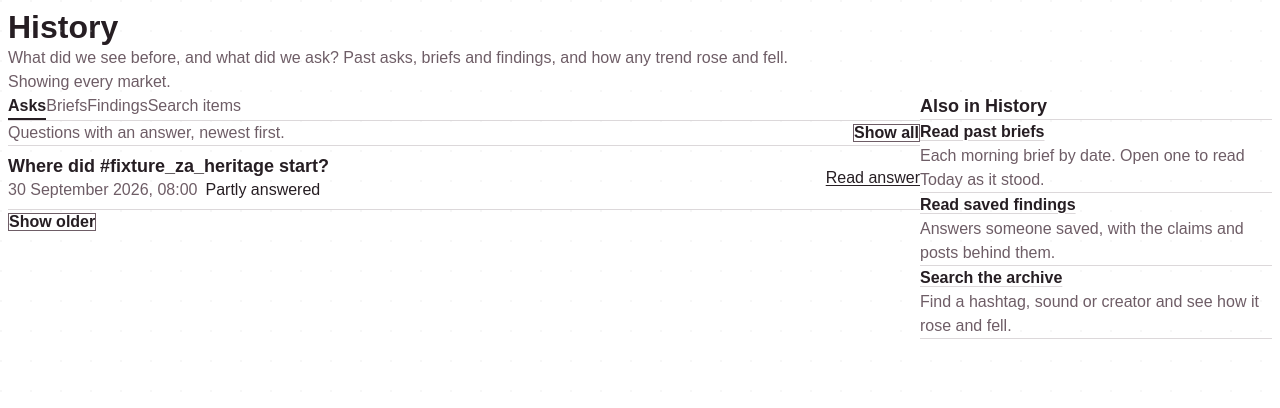
a finding keeps its evidence flags and shows each as words
What coordinates should you click on to do the following:
click the tab "Findings"
I would click on:
 (117, 107)
Its box is [87,94,148,120].
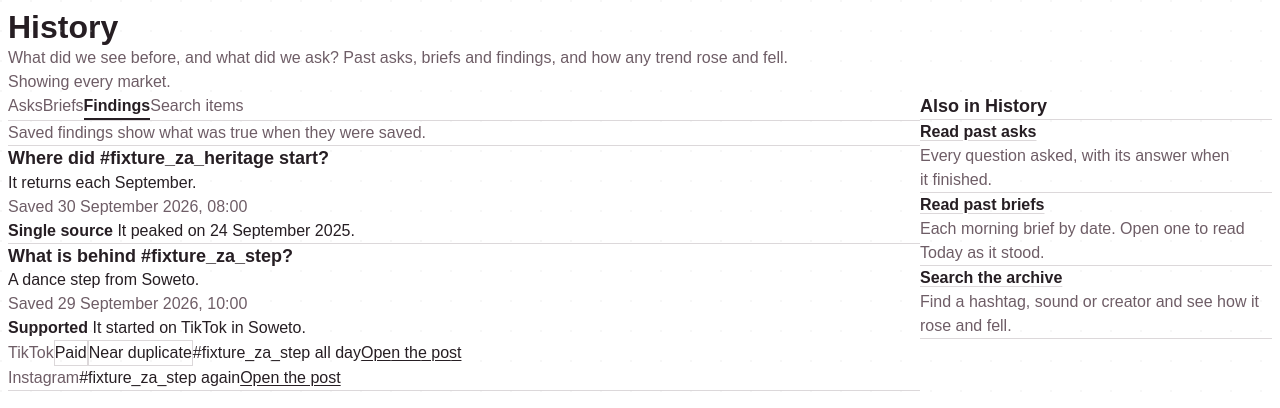
Now the list item that starts with "TikTok" shows "Paid", box [55,344,87,361]
Now the list item that starts with "TikTok" shows "Near duplicate", box [89,344,192,361]
